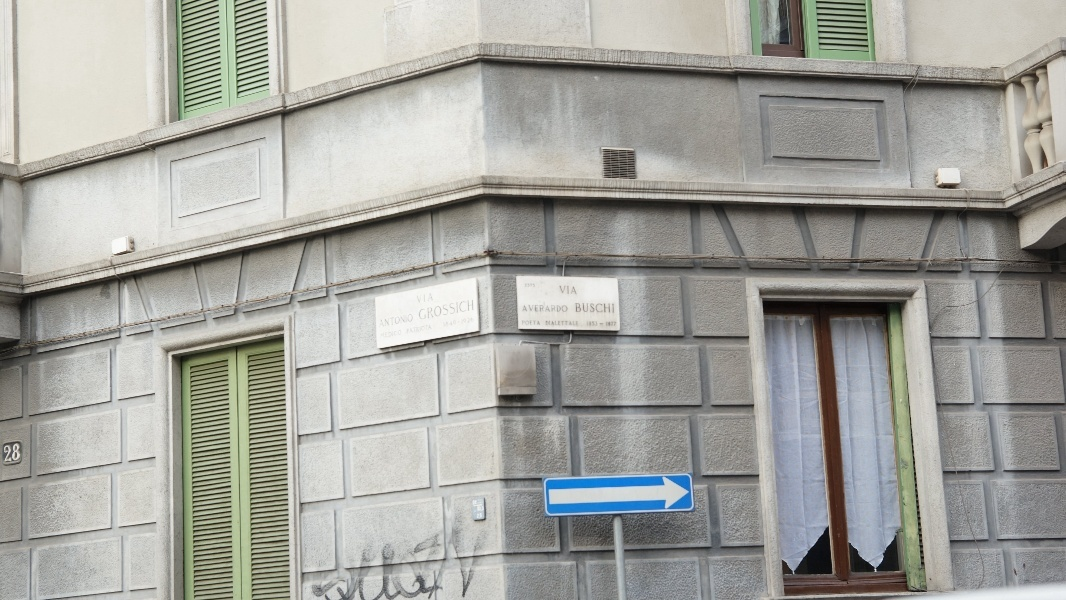text: (321, 515, 336, 598), (337, 515, 352, 598), (353, 515, 368, 598), (369, 515, 384, 598), (385, 515, 400, 598), (401, 515, 416, 598), (417, 515, 432, 598), (433, 515, 448, 598), (449, 515, 464, 598), (465, 515, 480, 598), (481, 515, 495, 598), (308, 515, 320, 598), (433, 299, 448, 322), (449, 299, 464, 322), (418, 299, 432, 322), (2, 442, 16, 463), (385, 313, 400, 329), (401, 313, 414, 329), (465, 299, 474, 322), (471, 498, 480, 520), (449, 317, 464, 329), (577, 303, 592, 314), (593, 303, 608, 314), (417, 293, 432, 304), (417, 325, 432, 335), (561, 286, 576, 295), (385, 330, 400, 339), (529, 305, 544, 313), (545, 305, 560, 313), (465, 317, 475, 329), (481, 498, 486, 520), (17, 442, 22, 463), (545, 320, 560, 327), (561, 320, 576, 327), (406, 325, 416, 335), (593, 321, 608, 327), (609, 303, 616, 314), (561, 305, 569, 313), (529, 321, 541, 326), (443, 317, 448, 329), (609, 321, 617, 327), (381, 313, 384, 329), (523, 305, 528, 313), (380, 330, 384, 339), (522, 321, 528, 326), (587, 321, 592, 327), (529, 284, 536, 288), (524, 284, 528, 288), (577, 320, 579, 327), (575, 303, 576, 314), (433, 293, 434, 304), (433, 325, 434, 335), (559, 286, 560, 295), (577, 286, 578, 295), (401, 330, 402, 339)
